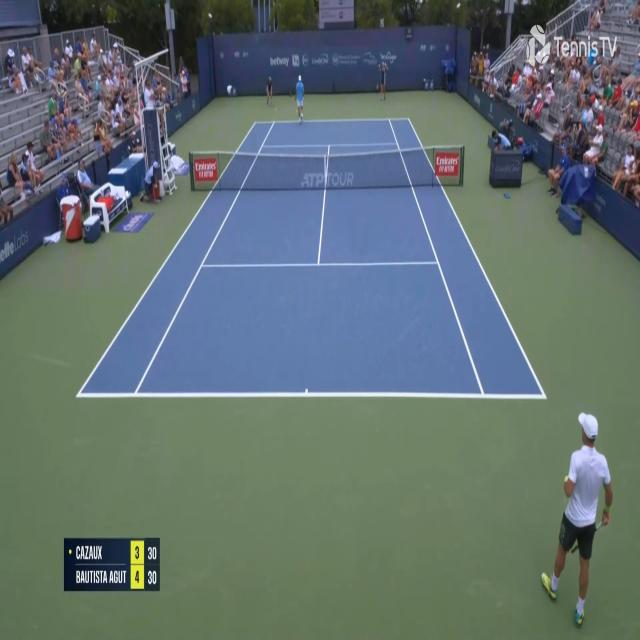tennis-player: (536, 404, 614, 634), (293, 73, 306, 123)
